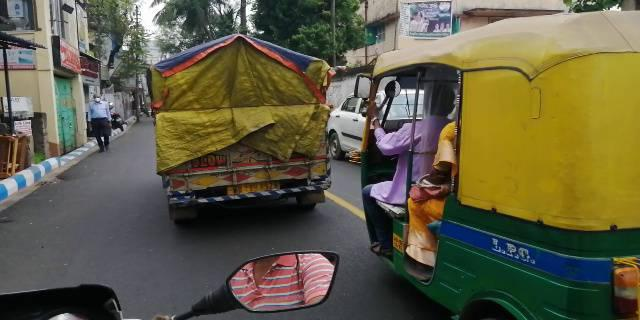Autorickshaw: (358, 6, 640, 320)
Car: (328, 92, 365, 163)
Minitruck: (140, 32, 333, 225)
